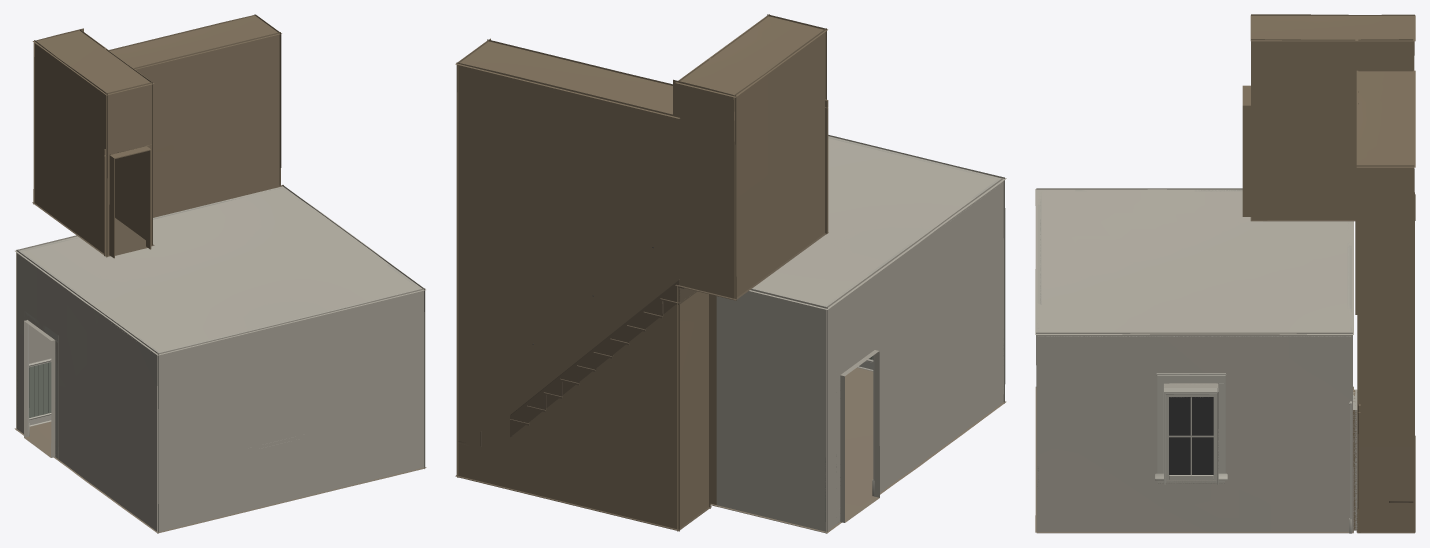
Rendered from house_kitchen.glb.
The picture shows the model from 3 angles, left to right: view 1: azimuth 30°, elevation 25°; view 2: azimuth 150°, elevation 25°; view 3: azimuth 270°, elevation 25°; orthographic projection. The views are drawn at different scales.
Parts seen in each view (by area): view 1: G3, U4, U4T; view 2: U4, G3, U4T, U4_stair; view 3: G3, U4, U4T, G3_glass_O_G3_E.
Boxes of the visible parts, <box> form: G3: <box>14,185,426,533</box>; U4: <box>109,14,281,216</box>; U4T: <box>32,28,154,258</box>; U4: <box>455,38,711,531</box>; G3: <box>710,135,1006,533</box>; U4T: <box>673,14,828,300</box>; U4_stair: <box>458,247,697,446</box>; G3: <box>1035,188,1357,533</box>; U4: <box>1355,70,1415,533</box>; U4T: <box>1242,14,1415,221</box>; G3_glass_O_G3_E: <box>1169,397,1213,474</box>.
Size of the model in its own units: 5.38 by 6.45 by 5.56.
